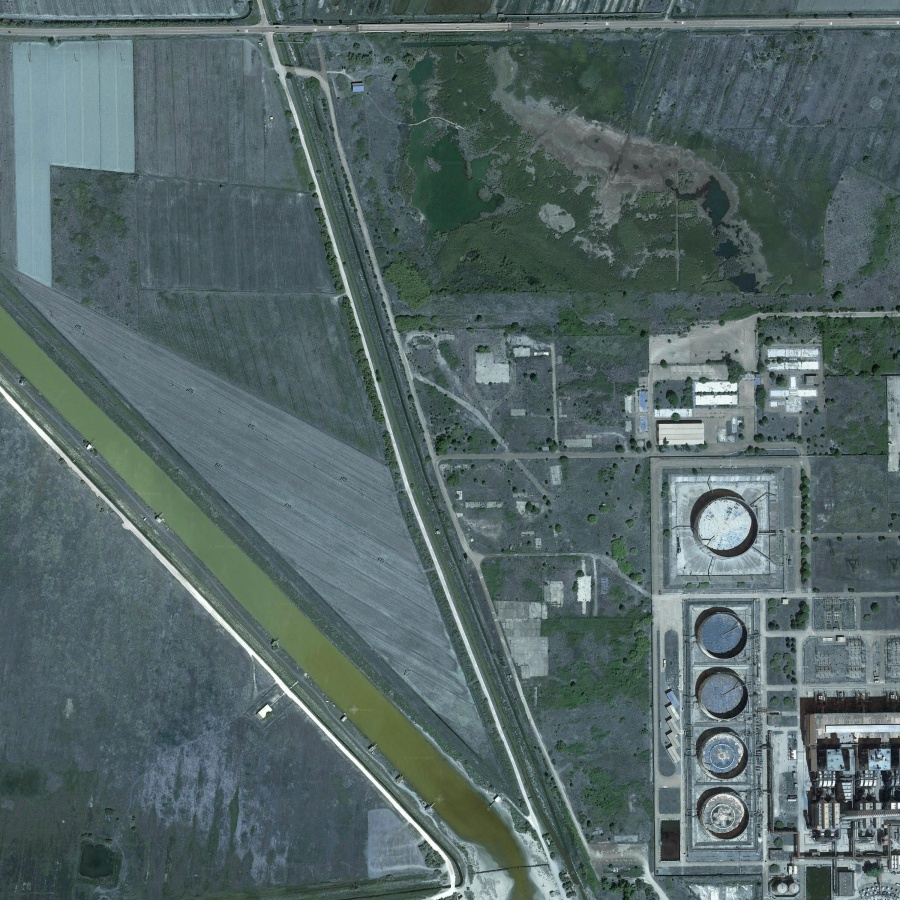PowerPlant: (647, 458, 796, 873)
